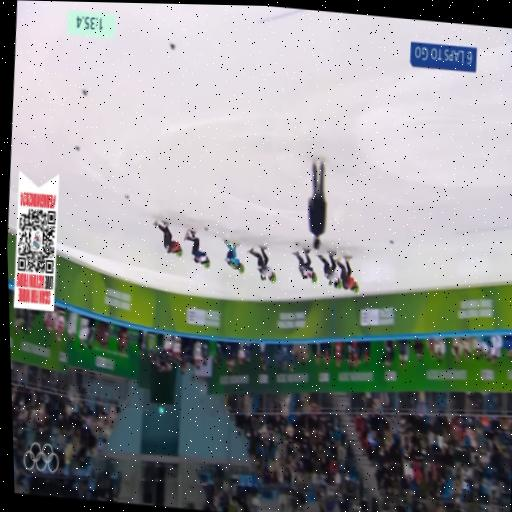Skater: (153, 220, 181, 256), (248, 246, 275, 282), (184, 230, 209, 267), (316, 251, 341, 287), (335, 256, 358, 292), (293, 249, 316, 282), (223, 239, 244, 273)
